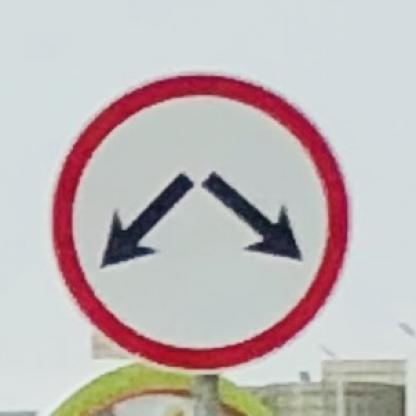Road Divides: (56, 70, 350, 376)
